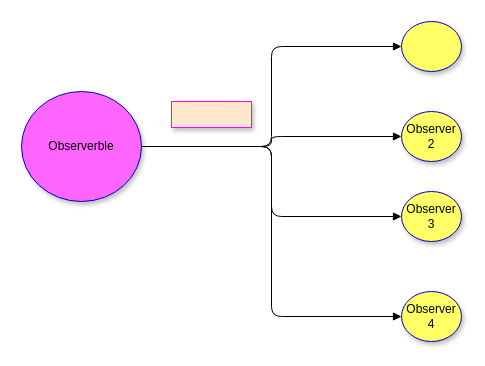
Some shapes in this 485 by 366 pixel diagram are drawn without their labels. Each missing label, with the centre of its shape:
"Observer 1" goes at (432,47).
"Push Notify" goes at (212,115).
